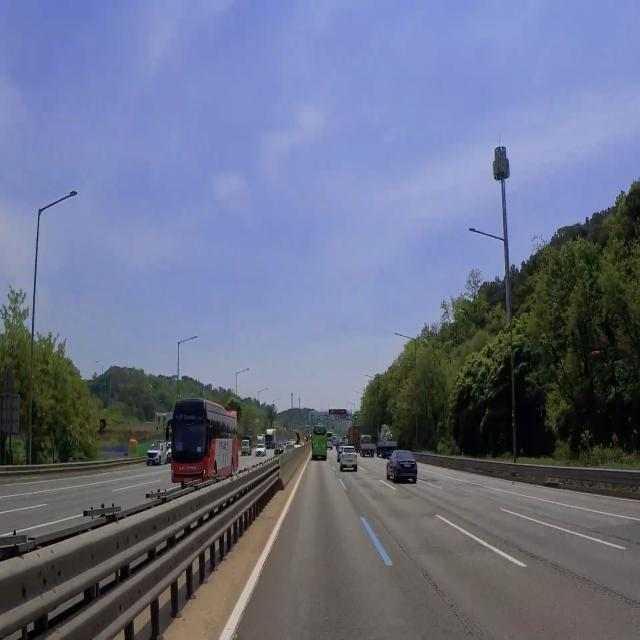car: (402, 461, 414, 472)
